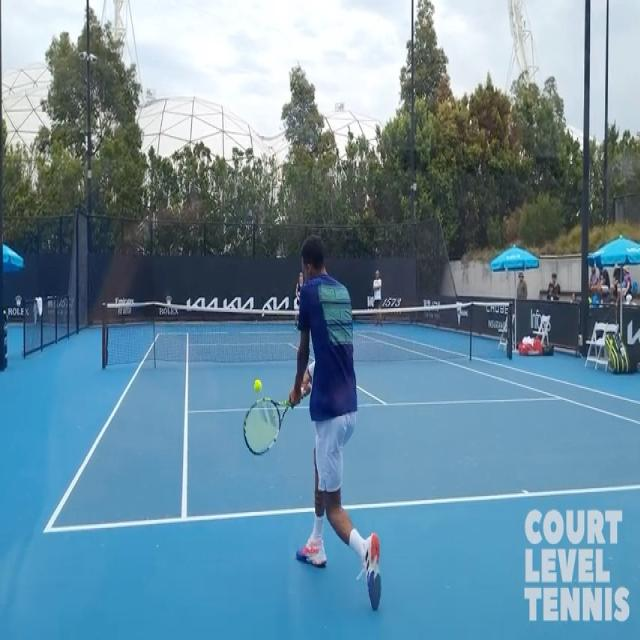backhand-stroke: (233, 234, 394, 636)
